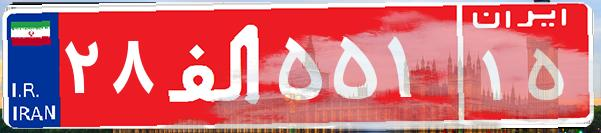1: (385, 28, 445, 110), (475, 38, 525, 113)
2: (57, 26, 110, 107)
5: (273, 28, 330, 110), (330, 28, 385, 110), (525, 38, 570, 115)
8: (110, 28, 158, 105)
الف: (158, 15, 273, 115)
